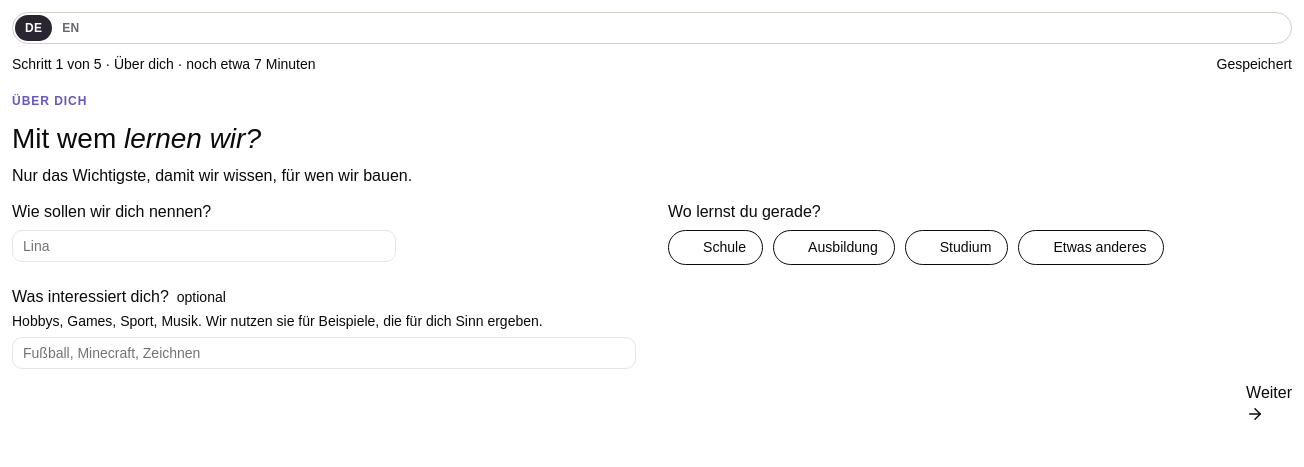
it: ApplicationForm › asks for a name and a stage before leaving the about step
Click the button "Weiter": (1269, 402) [1246,381,1292,423]
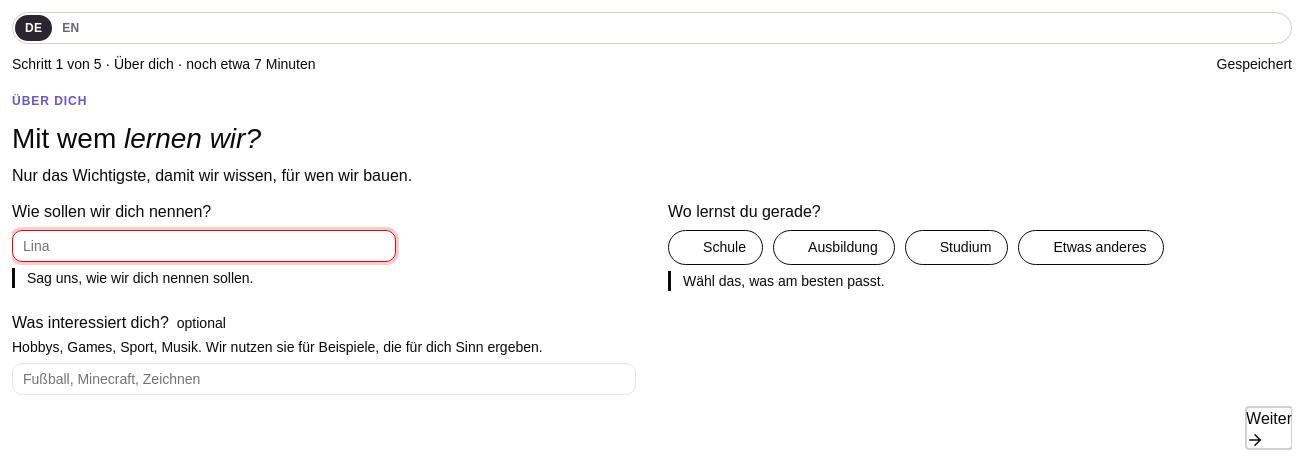
expect the text "Sag uns, wie wir dich nennen sollen." is shown: met, box [12,268,636,288]
expect the text "Wähl das, was am besten passt." is shown: met, box [668,271,1292,291]
